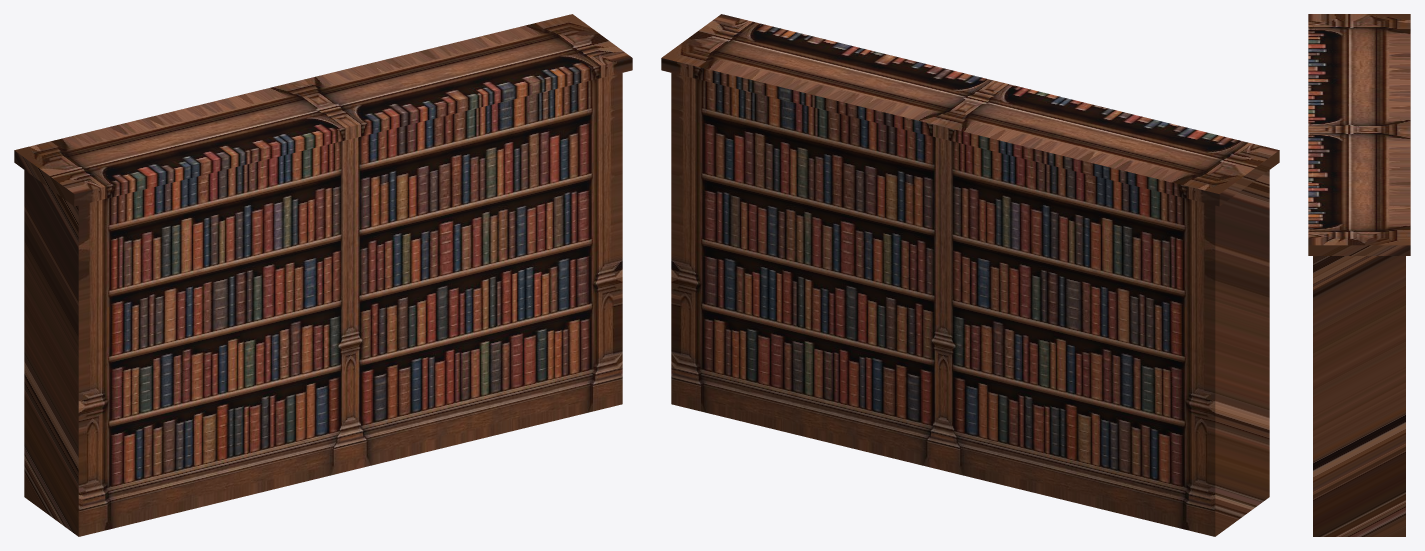
Rendered from v3-library-book-stack.glb.
3 renders of one model, left to right at view 1: azimuth 30°, elevation 25°; view 2: azimuth 150°, elevation 25°; view 3: azimuth 270°, elevation 25°, orthographic. The views are drawn at different scales.
Visible parts, largest first — view 1: v3-library-book-stack; view 2: v3-library-book-stack; view 3: v3-library-book-stack.
Part boxes in pixels (x1=…): v3-library-book-stack: x1=14, y1=14, x2=632, y2=536; v3-library-book-stack: x1=661, y1=14, x2=1279, y2=536; v3-library-book-stack: x1=1308, y1=14, x2=1410, y2=536.
Size of the model in its own units: 2.36 by 1.4 by 0.44.
1 material, 1 textured.
